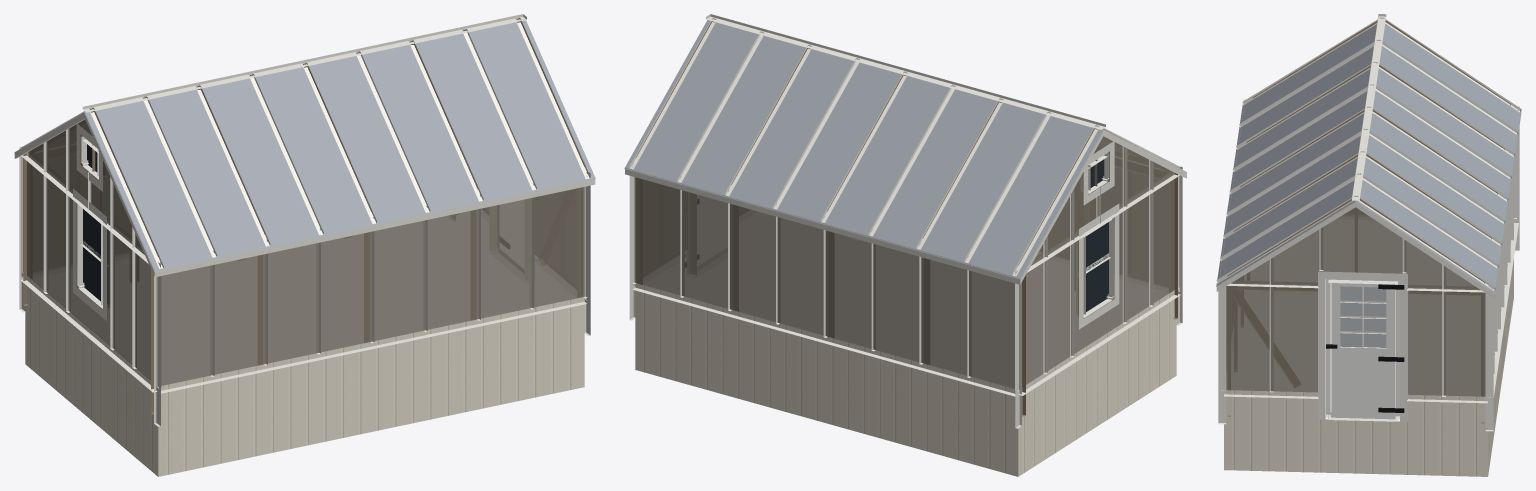
Rendered from greenhouse.glb.
The picture shows the model from 3 angles, left to right: view 1: azimuth 30°, elevation 25°; view 2: azimuth 150°, elevation 25°; view 3: azimuth 270°, elevation 25°; orthographic projection. The views are drawn at different scales.
Visible parts, largest first — view 1: greenhouse_roof, greenhouse_walls, greenhouse_walls_greenhouse_panel, site_gh_roof_battens, site_gh_trim, site_gh_battens, greenhouse_fascia, site_gh_frame, greenhouse_windows_casing, greenhouse_windows_glass, greenhouse_windows_frame; view 2: greenhouse_roof, greenhouse_walls, greenhouse_walls_greenhouse_panel, site_gh_roof_battens, site_gh_trim, site_gh_battens, greenhouse_fascia, greenhouse_windows_casing, site_gh_frame, greenhouse_windows_glass, greenhouse_windows_frame; view 3: greenhouse_roof, greenhouse_walls, greenhouse_walls_greenhouse_panel, site_gh_roof_battens, site_gh_trim, site_gh_door_slab, site_gh_door_casing, site_gh_door_glass, site_gh_frame, site_gh_battens, site_gh_door_frame, greenhouse_fascia.
Boxes of the visible parts, x1,y1,x2,y2 form: greenhouse_roof: (14, 20, 595, 271); greenhouse_walls: (27, 119, 584, 385); greenhouse_walls_greenhouse_panel: (25, 276, 584, 476); site_gh_roof_battens: (21, 17, 590, 268); site_gh_trim: (19, 14, 590, 426); site_gh_battens: (22, 128, 587, 388); greenhouse_fascia: (14, 112, 595, 277); site_gh_frame: (23, 21, 584, 414); greenhouse_windows_casing: (73, 124, 106, 320); greenhouse_windows_glass: (83, 144, 100, 301); greenhouse_windows_frame: (77, 136, 102, 308); greenhouse_roof: (624, 20, 1165, 279); greenhouse_walls: (635, 136, 1174, 388); greenhouse_walls_greenhouse_panel: (635, 283, 1176, 476); site_gh_roof_battens: (629, 17, 1182, 276); site_gh_trim: (629, 14, 1182, 428); site_gh_battens: (632, 146, 1179, 391); greenhouse_fascia: (625, 130, 1186, 284); greenhouse_windows_casing: (1079, 141, 1119, 329); site_gh_frame: (636, 21, 1177, 416); greenhouse_windows_glass: (1086, 159, 1108, 311); greenhouse_windows_frame: (1083, 153, 1113, 317); greenhouse_roof: (1216, 24, 1521, 293); greenhouse_walls: (1226, 207, 1485, 396); greenhouse_walls_greenhouse_panel: (1224, 241, 1513, 476); site_gh_roof_battens: (1216, 17, 1521, 290); site_gh_trim: (1218, 14, 1519, 431); site_gh_door_slab: (1331, 283, 1395, 419); site_gh_door_casing: (1318, 271, 1407, 422); site_gh_door_glass: (1340, 286, 1386, 347); site_gh_frame: (1227, 20, 1510, 423); site_gh_battens: (1221, 100, 1516, 397); site_gh_door_frame: (1326, 278, 1399, 421); greenhouse_fascia: (1216, 111, 1521, 298).
Bounding box in the file's own units: 5.24 × 3.54 × 3.52.
Materials: 9 (1 with a texture image).
